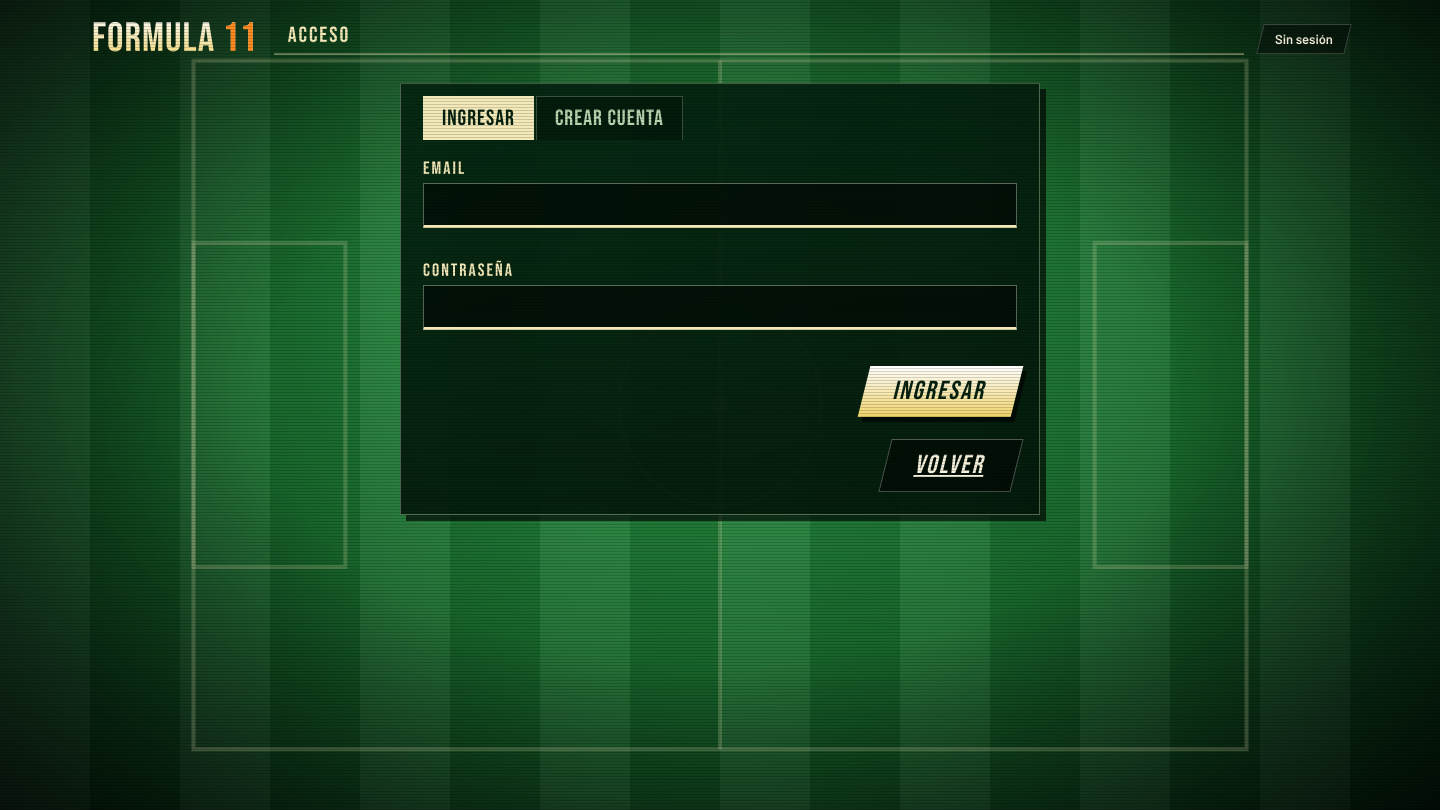
Test: ingreso › muestra errores locales sin enviar un formulario inválido
The image size is (1440, 810).
Click the button "Ingresar" at (941, 392), box [858, 366, 1023, 417]
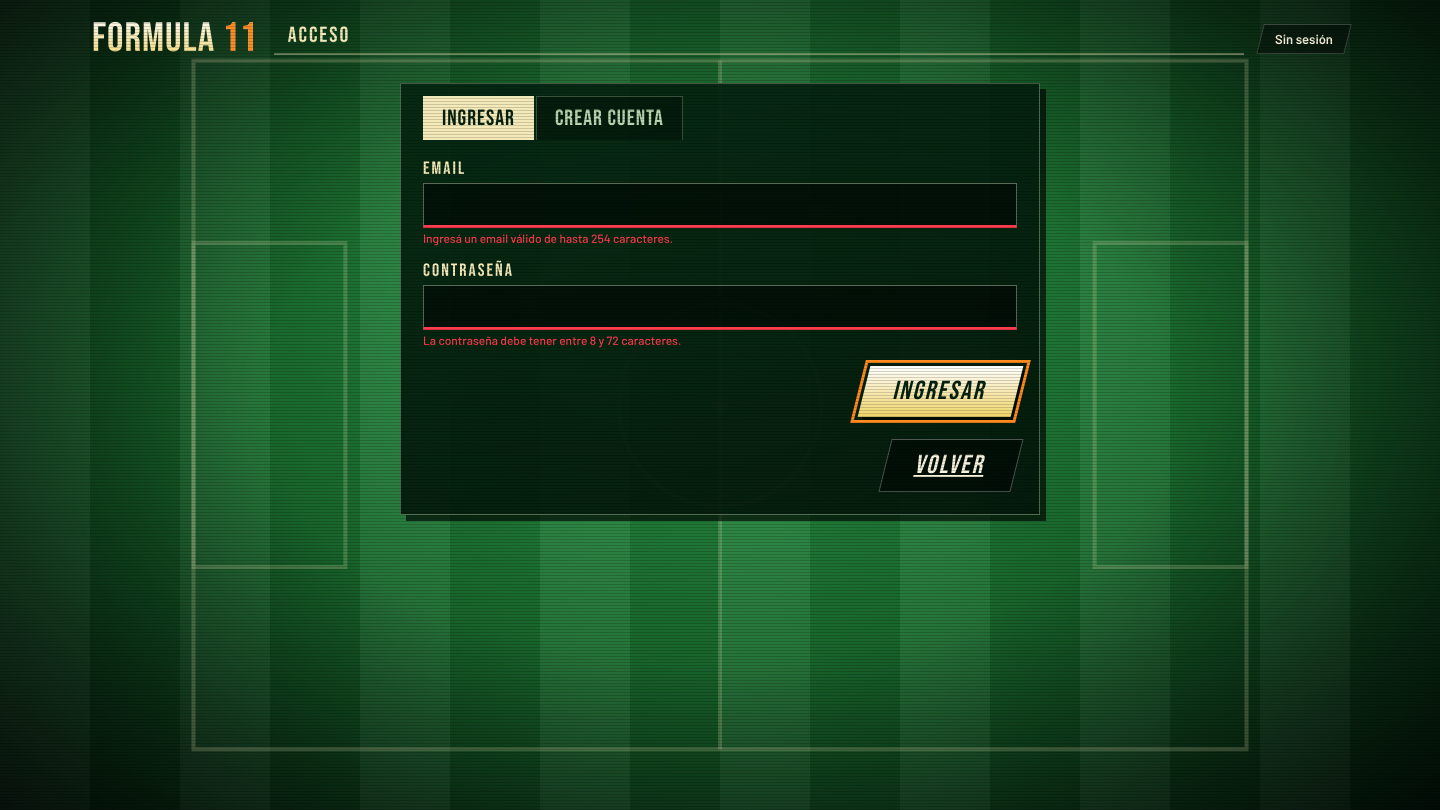
Check: the text "Ingresá un email válido de hasta 254 caracteres." is shown, box [423, 231, 673, 245]
Check: the text "La contraseña debe tener entre 8 y 72 caracteres." is shown, box [423, 333, 681, 347]
